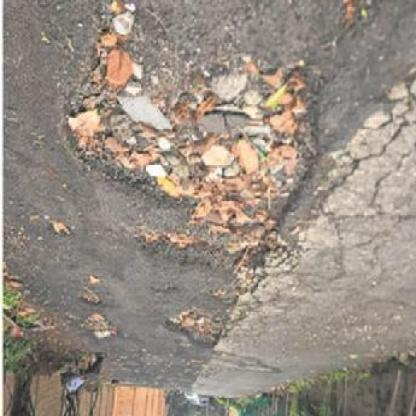pothole: (62, 3, 329, 276), (164, 309, 231, 349), (82, 317, 123, 345), (81, 291, 104, 310)
